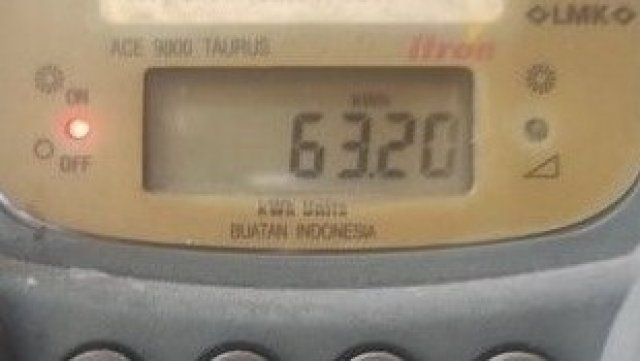box: (146, 68, 472, 194)
